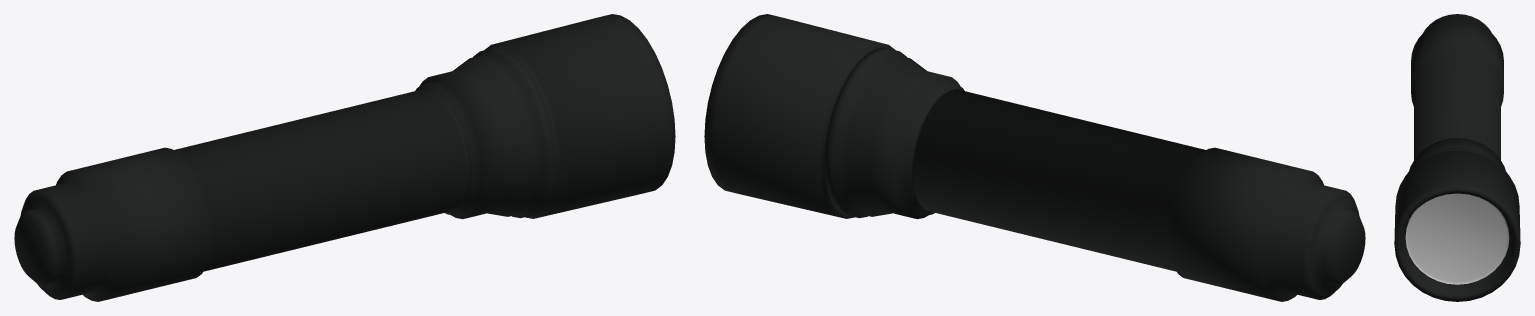
Rendered from Torch.glb.
3 views of the same model, side by side, from view 1: azimuth 30°, elevation 25°; view 2: azimuth 150°, elevation 25°; view 3: azimuth 270°, elevation 25° (orthographic). The views are drawn at different scales.
Visible parts, largest first — view 1: Torcher; view 2: Torcher; view 3: Torcher.
Part boxes in pixels (x1=…): Torcher: x1=14, y1=14, x2=675, y2=301; Torcher: x1=704, y1=14, x2=1365, y2=301; Torcher: x1=1394, y1=14, x2=1520, y2=301.
Bounding box in the file's own units: 1.93 × 0.508 × 0.508.
2 materials, 1 textured.
